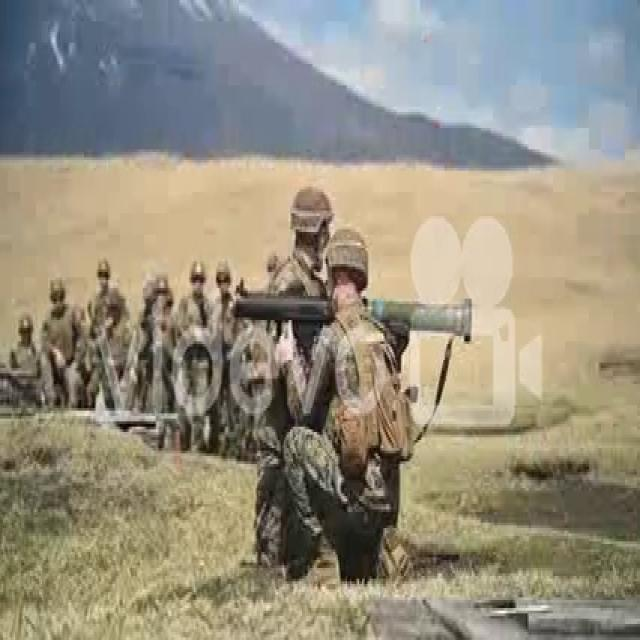bazooka: (233, 282, 480, 348)
